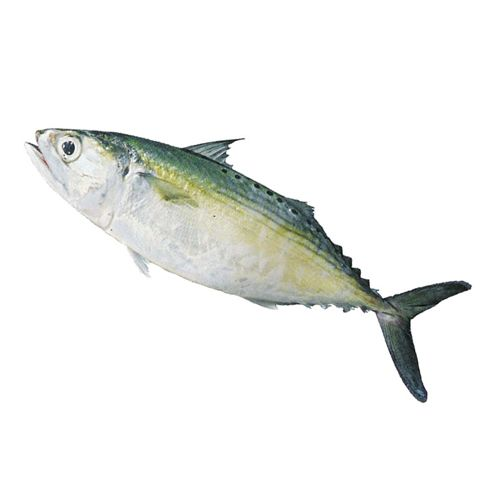Mackerel: (23, 125, 473, 402)
